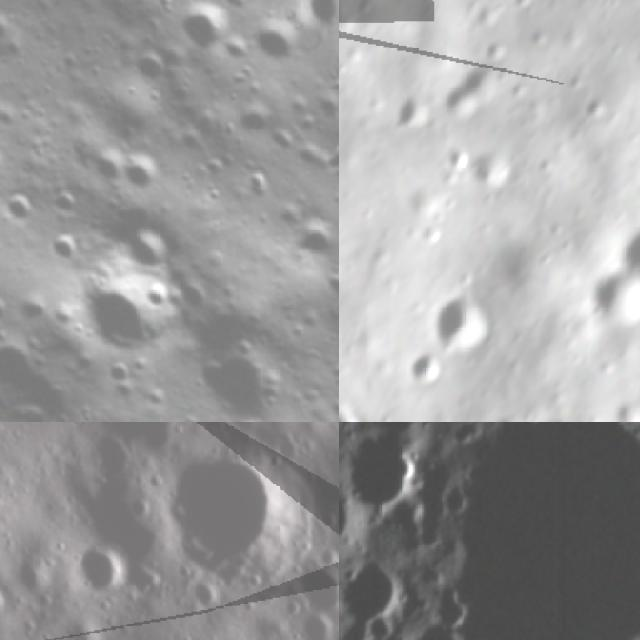crater: (445, 422, 640, 640), (141, 422, 312, 598), (65, 253, 193, 379), (186, 322, 305, 422), (51, 422, 212, 481), (341, 429, 421, 521), (272, 543, 339, 640), (114, 210, 194, 289), (63, 530, 137, 609), (339, 546, 407, 630), (166, 0, 249, 65), (242, 5, 314, 76), (418, 287, 495, 353), (433, 59, 502, 130), (281, 210, 339, 277), (116, 145, 177, 206), (582, 270, 640, 333), (35, 176, 89, 230), (125, 46, 178, 100), (0, 185, 45, 234), (394, 86, 436, 138), (339, 469, 362, 563), (44, 225, 90, 271), (469, 146, 515, 192), (388, 614, 468, 640), (404, 345, 452, 385), (312, 128, 339, 191), (79, 623, 164, 640), (442, 138, 477, 174), (624, 209, 640, 286), (609, 395, 640, 422), (0, 564, 12, 624), (580, 97, 608, 118), (339, 403, 366, 422), (534, 414, 571, 422)
